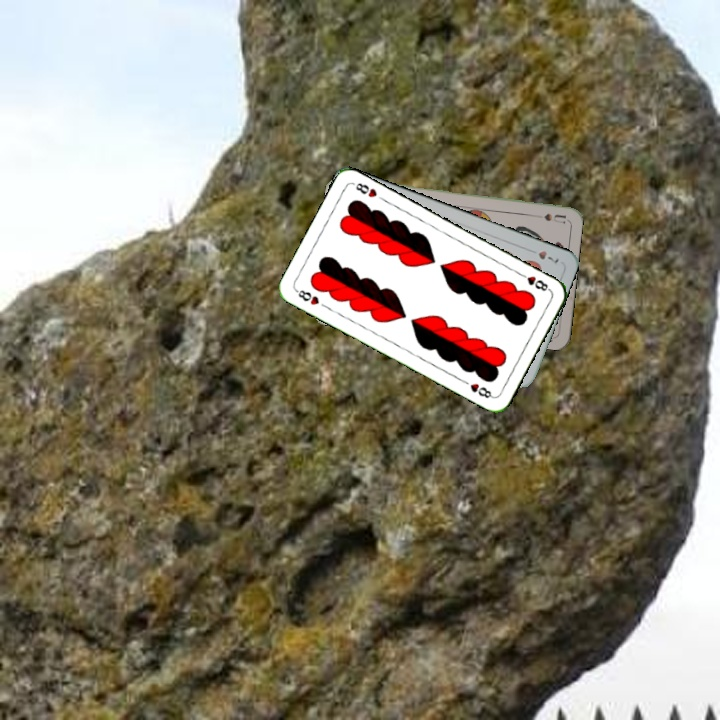H7: (524, 244, 562, 267)
H8: (515, 269, 553, 294), (292, 286, 322, 308)
SU: (527, 210, 567, 225)
